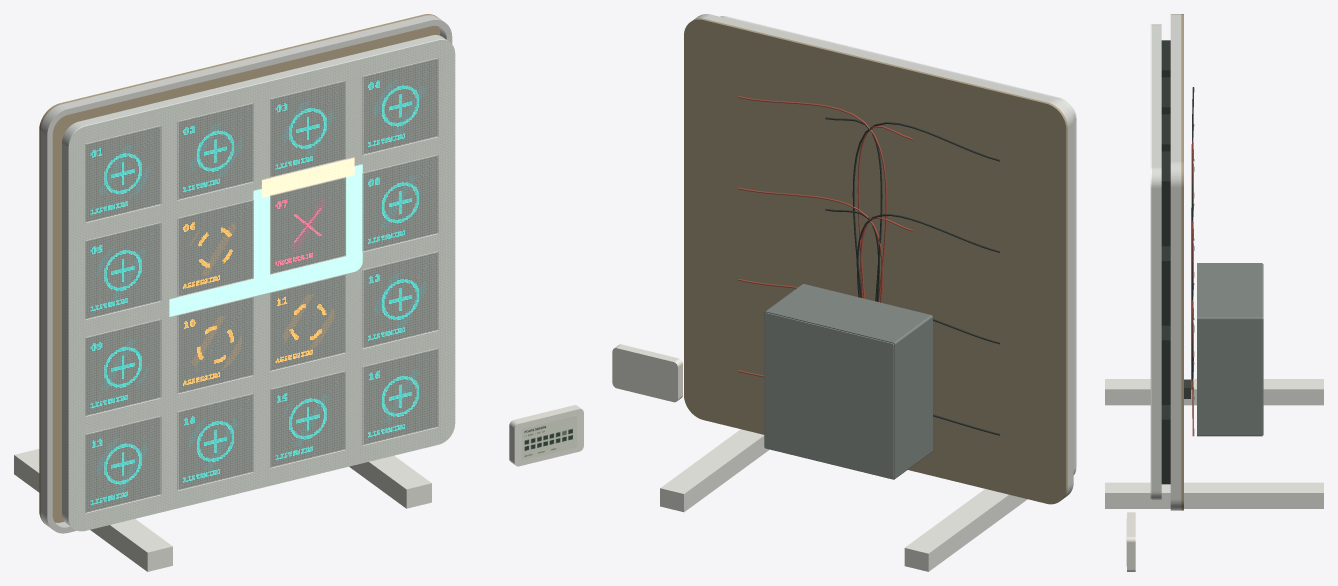
File: Flockinator-concept.glb
The picture shows the model from 3 angles, left to right: view 1: azimuth 30°, elevation 25°; view 2: azimuth 150°, elevation 25°; view 3: azimuth 270°, elevation 25°; orthographic projection. The views are drawn at different scales.
Visible parts, largest first — view 1: Continuous_honeycomb_skin_hex_surface, Rigid_perimeter_frame, Rigid_backing, Node_12_diffusion_face, Node_14_diffusion_face, Node_16_diffusion_face, Node_02_diffusion_face, Node_04_diffusion_face, Node_08_diffusion_face, Node_10_diffusion_face, Node_06_diffusion_face, Node_01_diffusion_face (+13 smaller); view 2: Rigid_backing, Power_enclosure_rear_door, PowerNex_ST303015_envelope, Rigid_perimeter_frame, White_timber_foot_-280, White_timber_foot_280, LilyGo_handheld_envelope, Rounded_channel_network, Illustrative_rear_harness (×2), Continuous_honeycomb_skin; view 3: PowerNex_ST303015_envelope, Rigid_perimeter_frame, White_timber_foot_280, Rounded_channel_network, White_timber_foot_-280, Rigid_backing, Continuous_honeycomb_skin, Node_08_carrier_right, Node_12_carrier_right, Node_04_carrier_right, Node_16_carrier_right, LilyGo_handheld_envelope (+6 smaller).
Part boxes in pixels (x1,y1,x2,y2): Continuous_honeycomb_skin_hex_surface: (68, 40, 455, 531); Rigid_perimeter_frame: (40, 15, 452, 533); Rigid_backing: (39, 14, 440, 523); Node_12_diffusion_face: (363, 252, 437, 347); Node_14_diffusion_face: (178, 394, 252, 489); Node_16_diffusion_face: (363, 349, 437, 444); Node_02_diffusion_face: (178, 104, 252, 199); Node_04_diffusion_face: (363, 59, 437, 153); Node_08_diffusion_face: (363, 155, 437, 250); Node_10_diffusion_face: (178, 297, 252, 392); Node_06_diffusion_face: (178, 201, 252, 295); Node_01_diffusion_face: (86, 126, 159, 221); Rigid_backing: (684, 18, 1067, 504); Power_enclosure_rear_door: (764, 312, 894, 478); PowerNex_ST303015_envelope: (764, 284, 932, 479); Rigid_perimeter_frame: (694, 14, 1073, 498); White_timber_foot_-280: (904, 489, 1027, 571); White_timber_foot_280: (660, 429, 769, 512); LilyGo_handheld_envelope: (612, 344, 682, 402); Rounded_channel_network: (720, 16, 1075, 474); Illustrative_rear_harness (×2): (738, 96, 999, 302); Continuous_honeycomb_skin: (720, 16, 1076, 474); PowerNex_ST303015_envelope: (1197, 263, 1262, 436); Rigid_perimeter_frame: (1170, 14, 1181, 510); White_timber_foot_280: (1105, 482, 1323, 508); Rounded_channel_network: (1152, 24, 1161, 500); White_timber_foot_-280: (1105, 379, 1323, 405); Rigid_backing: (1181, 14, 1183, 510); Continuous_honeycomb_skin: (1150, 24, 1151, 500); Node_08_carrier_right: (1161, 263, 1170, 323); Node_12_carrier_right: (1161, 342, 1170, 402); Node_04_carrier_right: (1161, 184, 1170, 243); Node_16_carrier_right: (1161, 422, 1170, 481); LilyGo_handheld_envelope: (1127, 512, 1135, 571).
Size of the model in its own units: 1.1 by 0.9158 by 0.5.
Materials: 49 (18 with a texture image).
